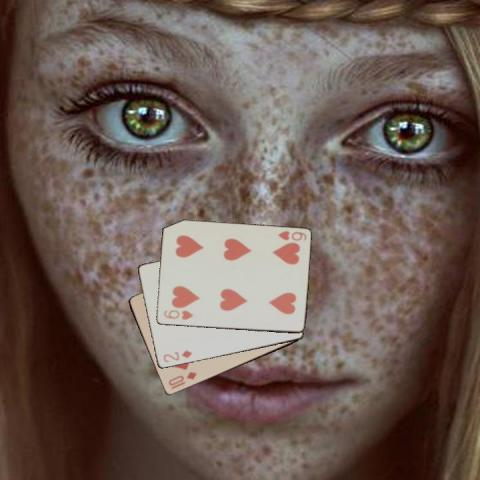10d: (165, 369, 198, 387)
2d: (160, 347, 193, 364)
6h: (275, 228, 308, 242), (161, 308, 194, 321)
